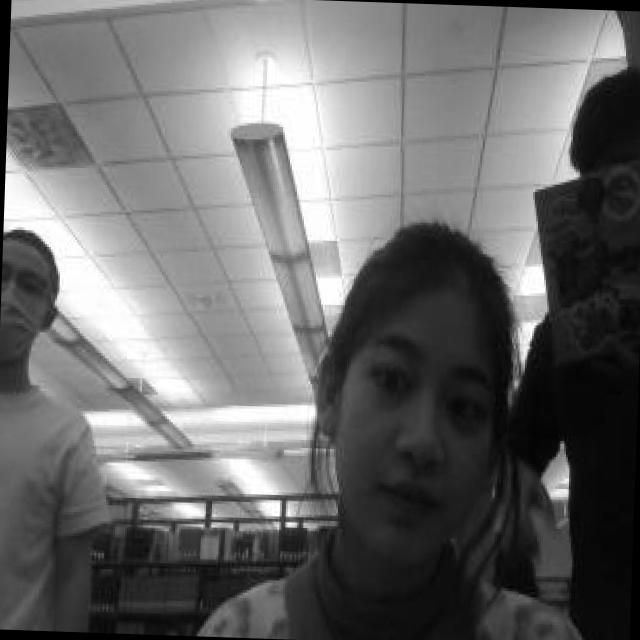Focused: (342, 272, 506, 550)
